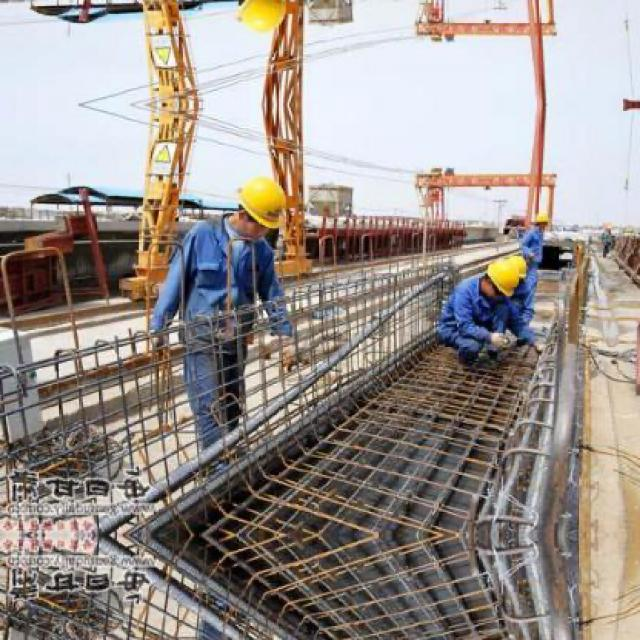2: (148, 177, 303, 489), (429, 260, 531, 362), (523, 214, 552, 301)
helmet: (232, 168, 292, 239), (232, 0, 294, 43), (483, 252, 528, 294), (531, 210, 551, 233)
